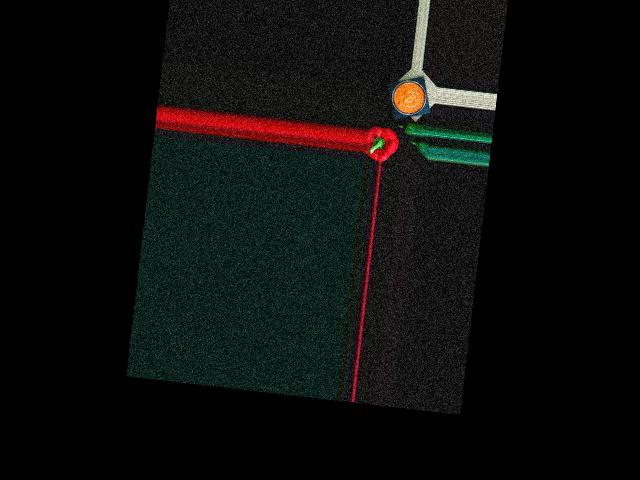bell_pepper: (364, 125, 399, 162)
